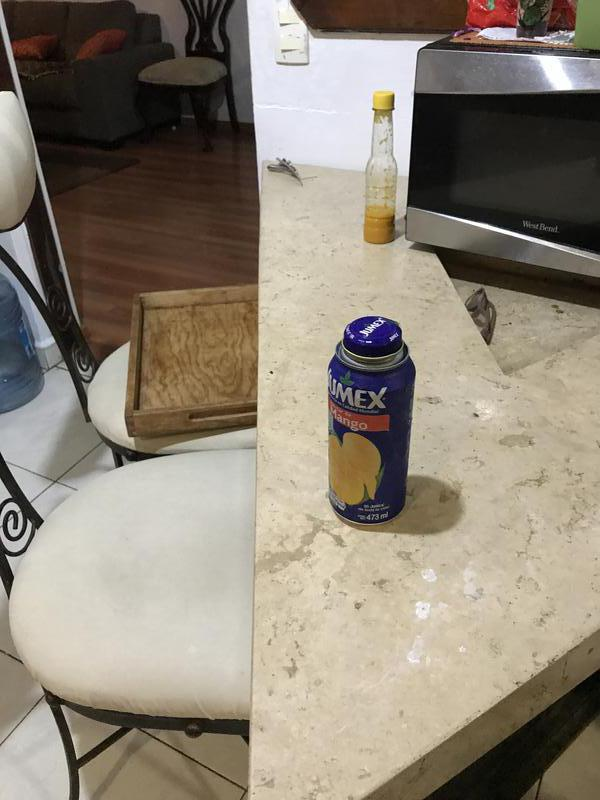jugo_jumex: (330, 314, 410, 527)
